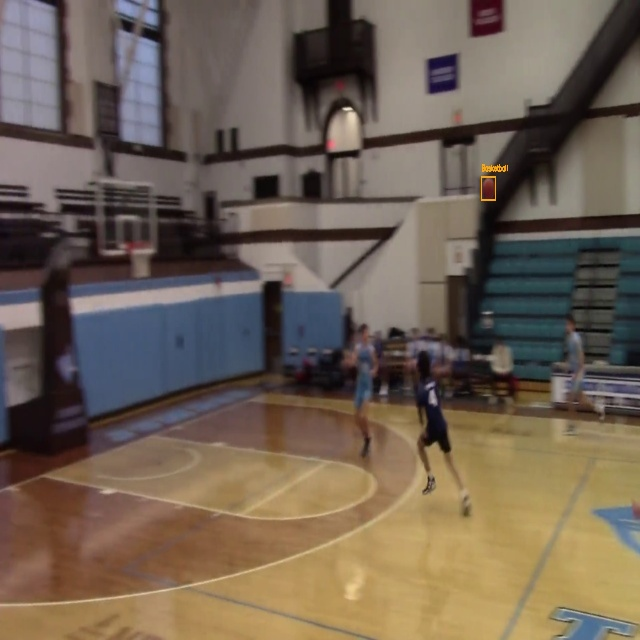Basketball: (482, 177, 496, 200)
